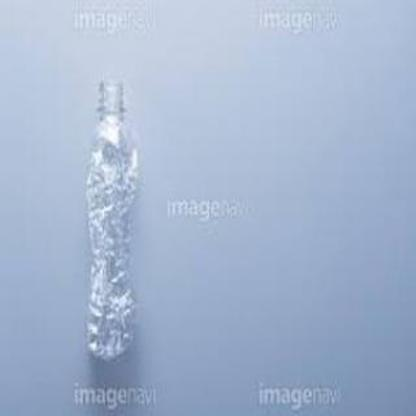plastic bottle: (85, 78, 138, 360)
